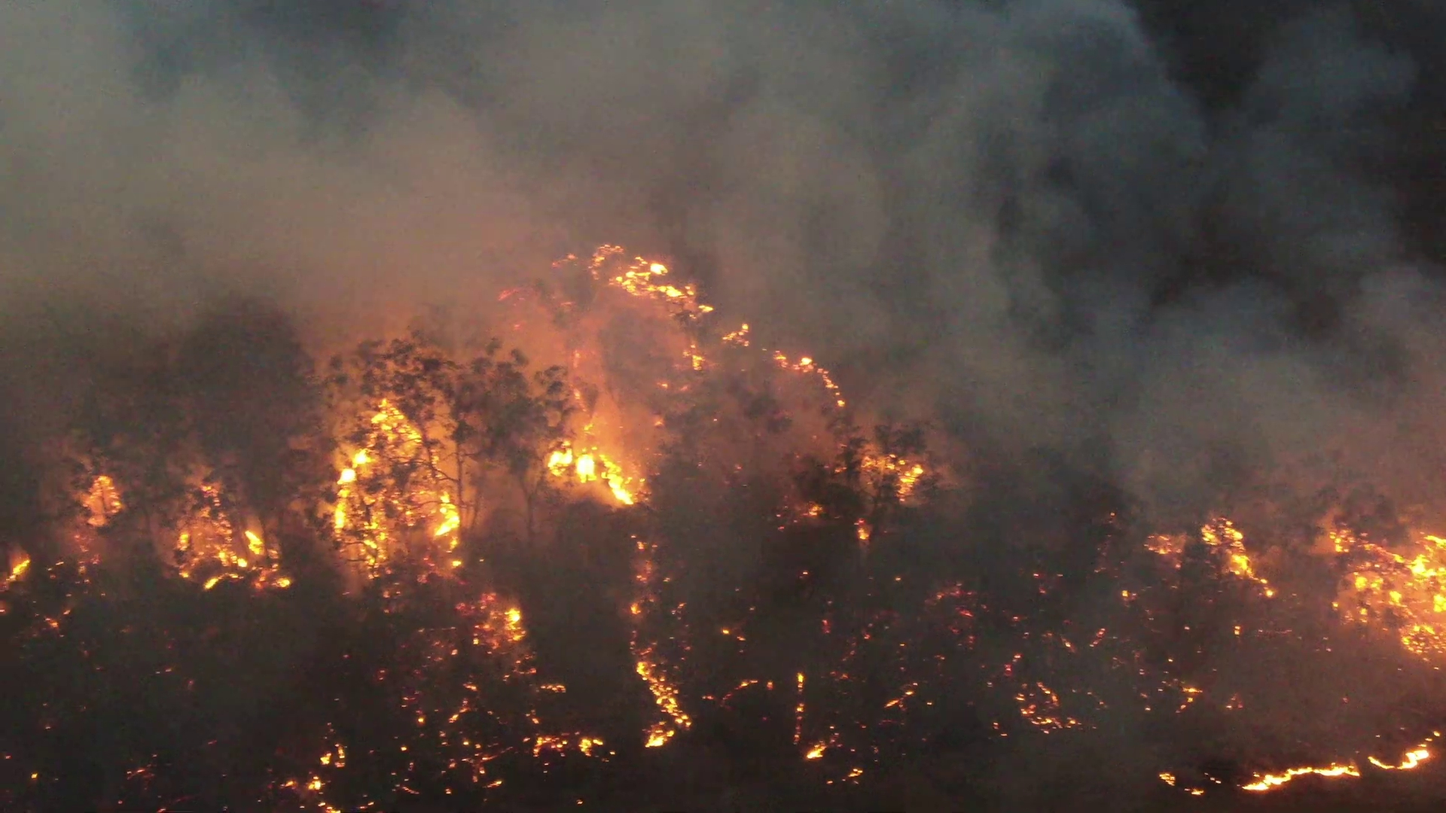forest_fire: (3, 246, 1445, 810), (1147, 717, 1436, 795), (16, 684, 133, 741), (568, 343, 606, 358), (518, 298, 554, 311), (570, 313, 585, 341), (1368, 710, 1379, 719), (250, 696, 262, 701), (1341, 696, 1350, 702), (117, 720, 126, 725), (79, 434, 84, 437), (602, 364, 605, 368), (752, 767, 761, 768), (1075, 586, 1079, 588), (99, 394, 102, 396), (117, 767, 119, 769), (167, 734, 169, 735), (17, 708, 18, 710), (1196, 757, 1197, 758)
